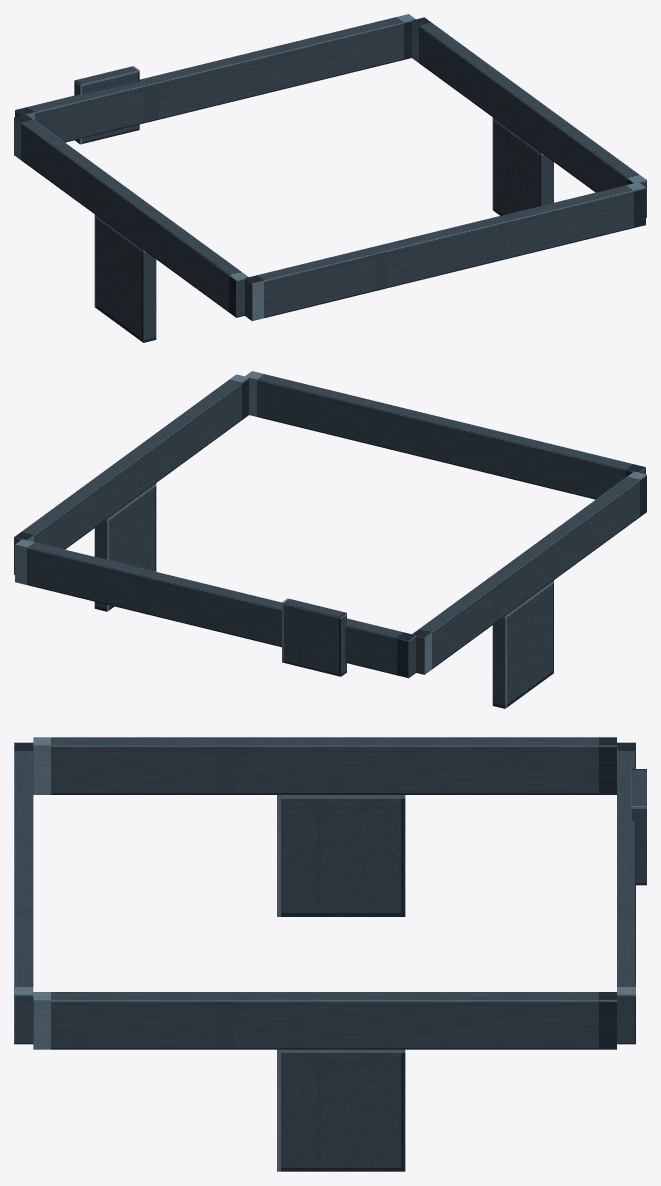
Rendered from workpiece_xuantie_helmet_quenched.obj.
The picture shows the model from 3 angles, top to bottom: view 1: azimuth 30°, elevation 25°; view 2: azimuth 150°, elevation 25°; view 3: azimuth 270°, elevation 25°; orthographic projection. The views are drawn at different scales.
Parts seen in each view (by area): view 1: geometry; view 2: geometry; view 3: geometry.
Part boxes in pixels (left/top/right/bottom): geometry: left=14, top=14, right=646, bottom=342; geometry: left=14, top=371, right=646, bottom=708; geometry: left=14, top=737, right=646, bottom=1171.
Size of the model in its own units: 0.6062 by 0.2 by 0.6169.
